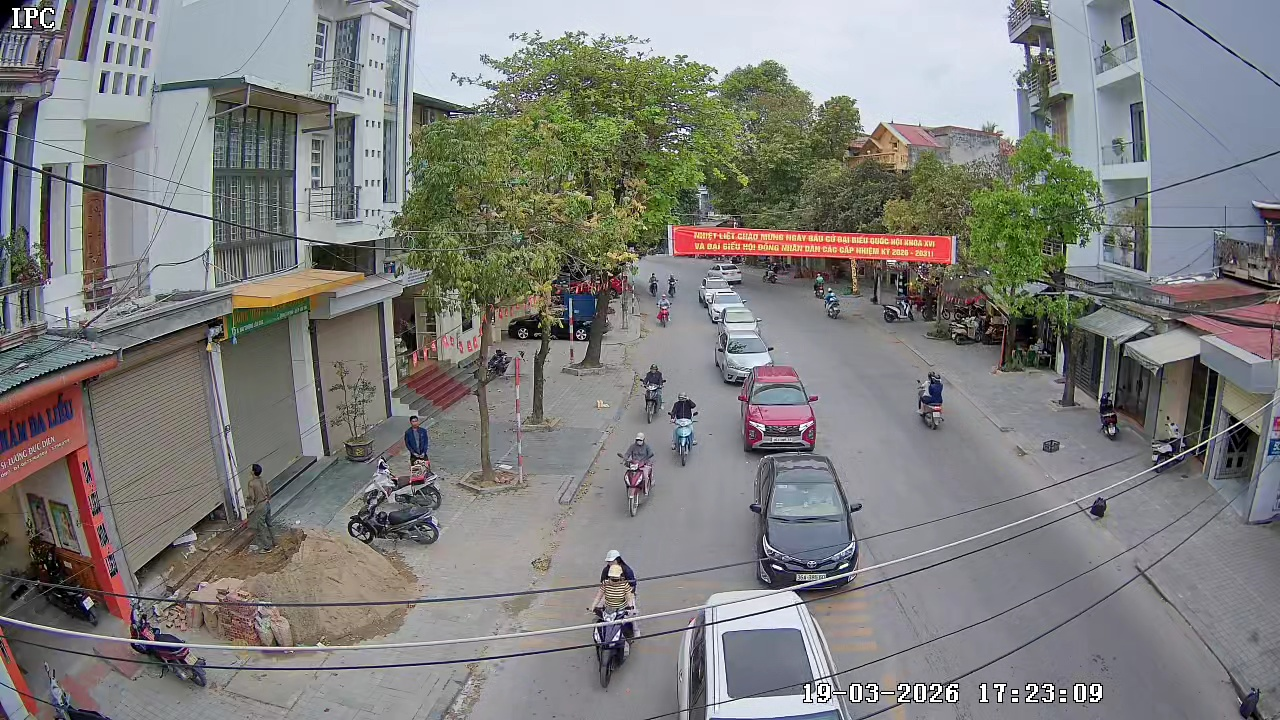car: (673, 589, 849, 719), (747, 453, 862, 588), (737, 363, 820, 454), (714, 332, 775, 386), (717, 303, 760, 343)
motorbike: (347, 458, 441, 546), (586, 562, 641, 689), (618, 431, 657, 517), (399, 450, 444, 511), (669, 392, 700, 467), (915, 369, 947, 431), (637, 362, 668, 423), (657, 296, 674, 327), (825, 292, 842, 320)
